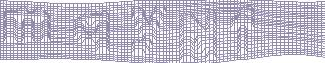N: (177, 9, 218, 61)
f: (230, 4, 254, 57)
m: (1, 6, 55, 44)
q: (72, 9, 113, 57)
y: (129, 4, 168, 57)
